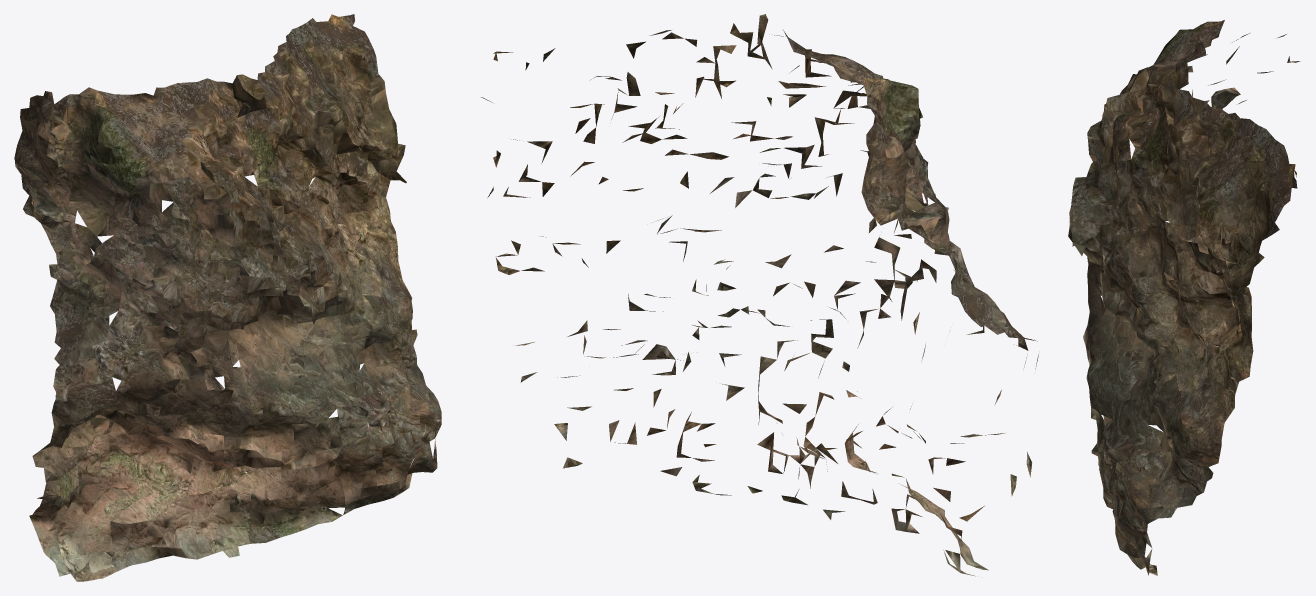
The model's file is paredao.glb.
3 renders of one model, left to right at view 1: azimuth 30°, elevation 25°; view 2: azimuth 150°, elevation 25°; view 3: azimuth 270°, elevation 25°, orthographic. The views are drawn at different scales.
Visible parts, largest first — view 1: paredao; view 2: paredao; view 3: paredao.
Boxes of the visible parts, x1,y1,x2,y2 form: paredao: [14, 14, 441, 581]; paredao: [481, 14, 1038, 576]; paredao: [1068, 20, 1300, 575].
Bounding box in the file's own units: 10.17 × 10.47 × 5.04.
Materials: 1 (1 with a texture image).
